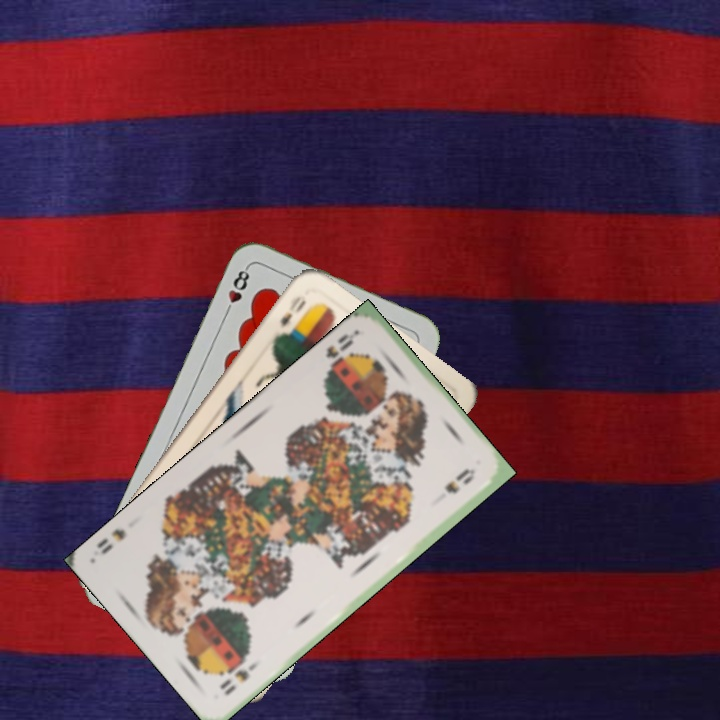EO: (275, 291, 309, 331)
H8: (220, 262, 253, 318)
SO: (321, 326, 361, 379), (215, 658, 261, 698)
